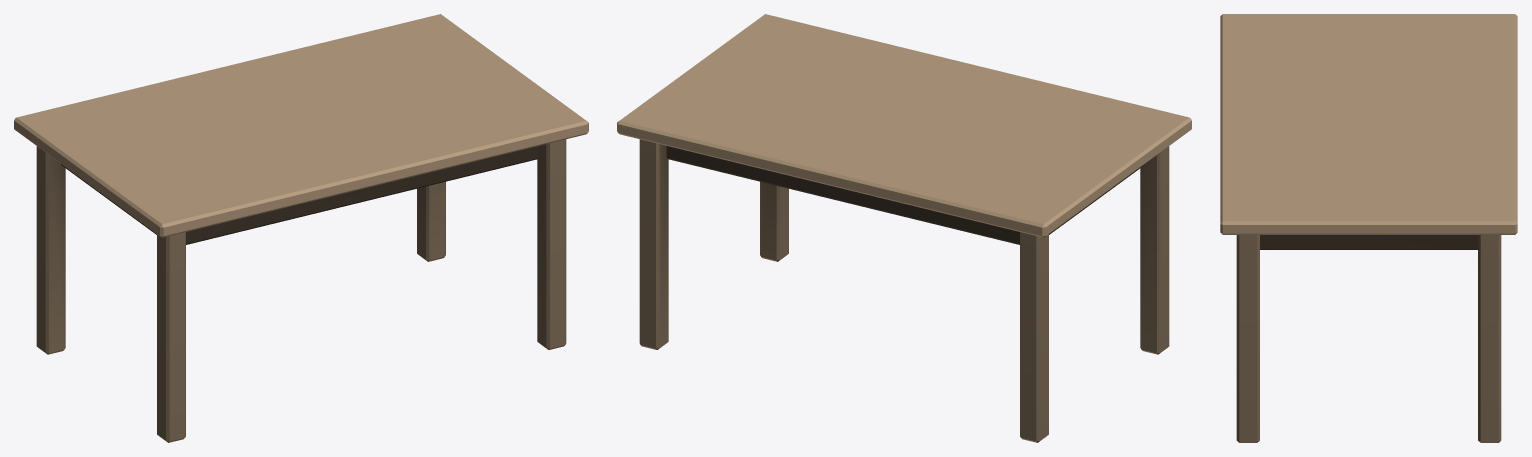
The model's file is table.glb.
3 renders of one model, left to right at view 1: azimuth 30°, elevation 25°; view 2: azimuth 150°, elevation 25°; view 3: azimuth 270°, elevation 25°, orthographic.
Visible parts, largest first — view 1: table; view 2: table; view 3: table.
Boxes of the visible parts, left/top/right/bottom form: table: left=14, top=14, right=588, bottom=442; table: left=617, top=14, right=1191, bottom=442; table: left=1220, top=14, right=1517, bottom=442.
Size of the model in its own units: 1.5 by 0.7625 by 0.9.
